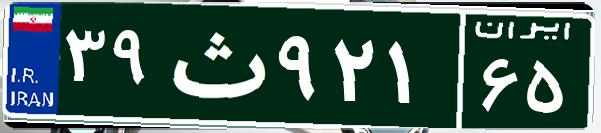1: (385, 28, 445, 110)
2: (330, 28, 385, 110)
3: (57, 26, 110, 107)
5: (525, 38, 570, 115)
6: (475, 38, 525, 113)
9: (273, 28, 330, 110), (110, 28, 158, 105)
ث: (158, 15, 273, 115)
